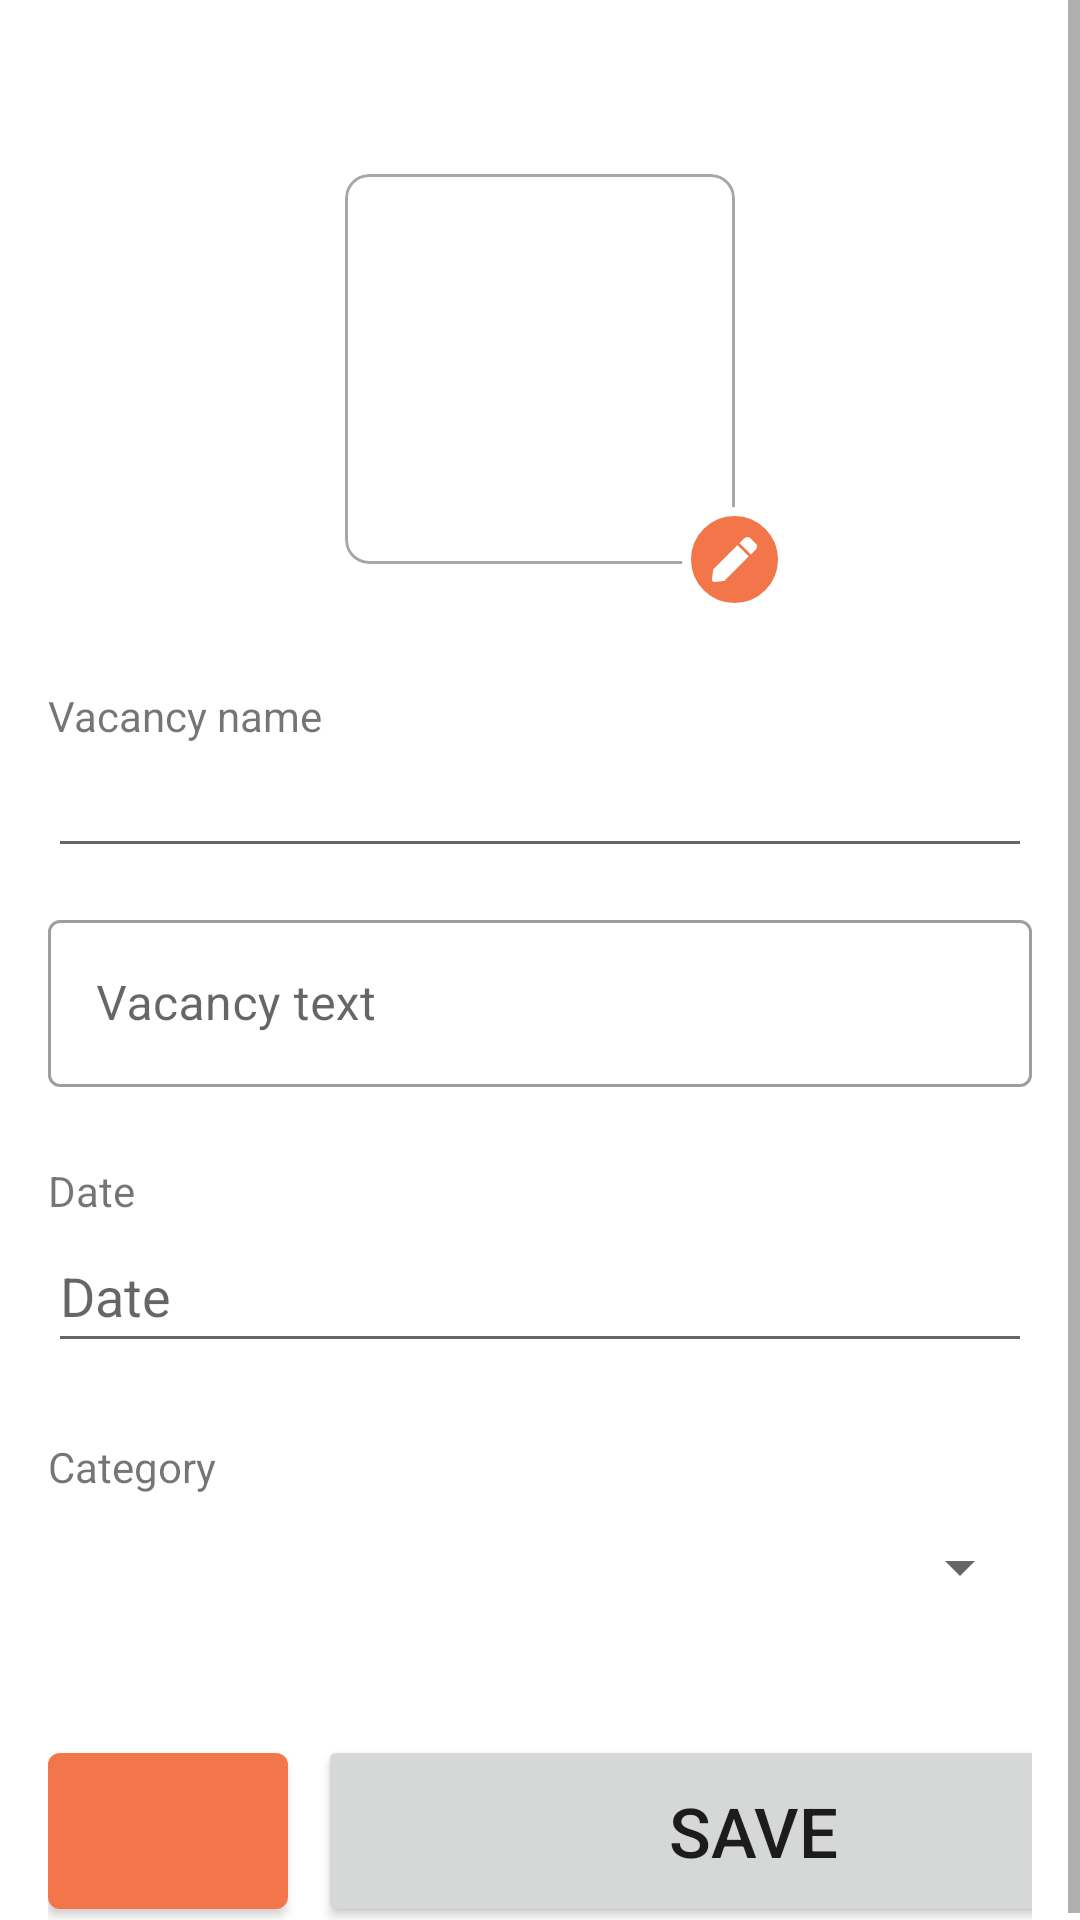

Screen size 1080px×1920px. Icon name, then its box in pixels as (x1, y1, x2, y2):
pencil: (691, 516, 778, 603)
